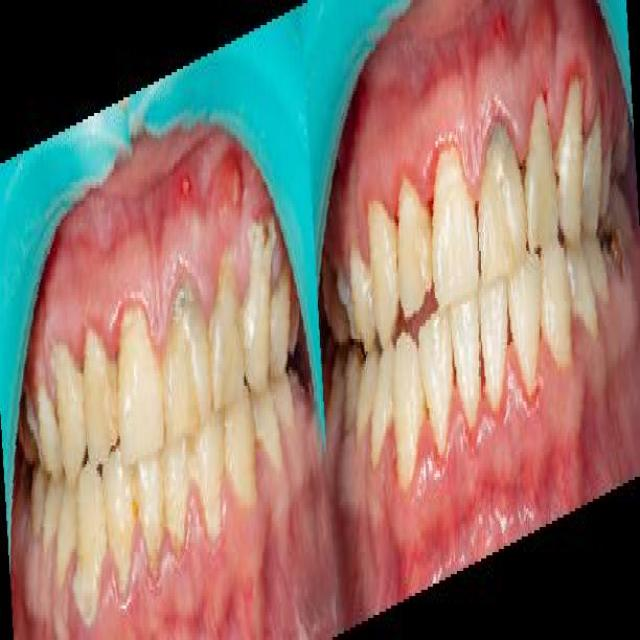caries: (598, 203, 630, 288)
